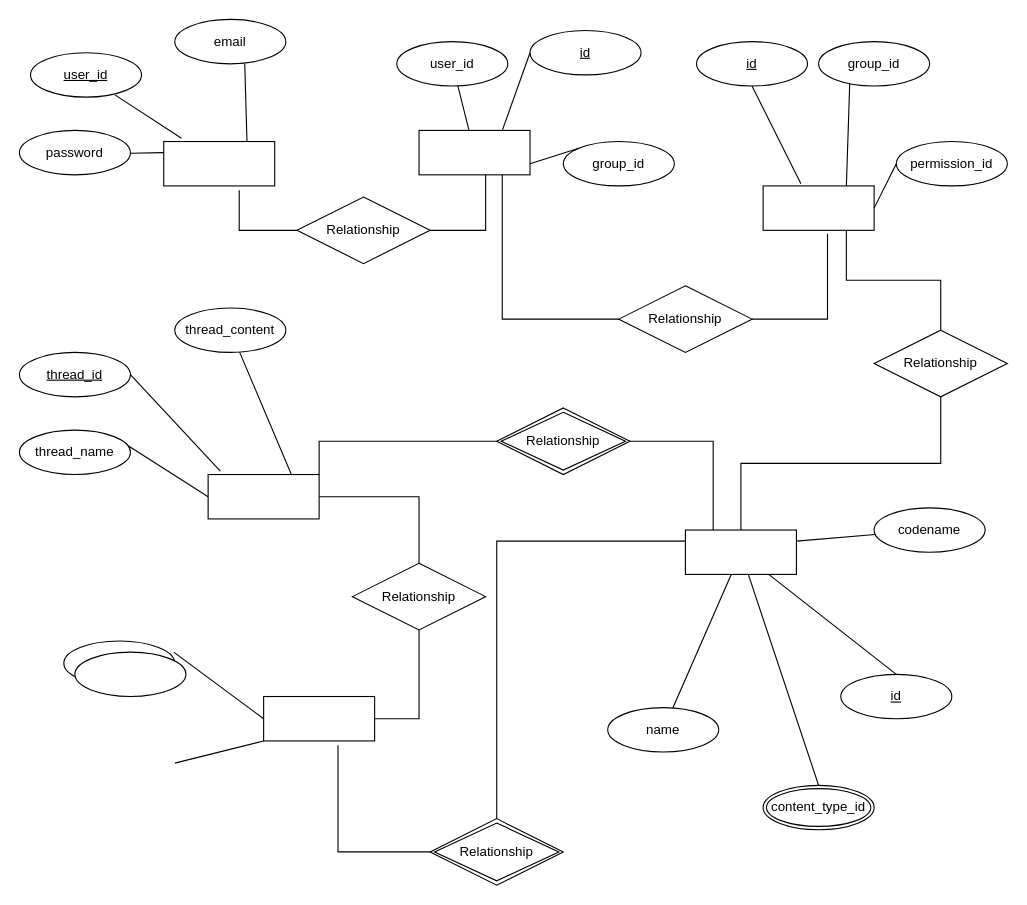
This 1027x905 diagram has some shape labels left out. Each missing label, with the centre of its shape:
Board: the point at 319,718
board_name: the point at 130,674
Permissions: the point at 740,551
Thread: the point at 263,496
User: the point at 219,163
User Groups: the point at 474,152
User Groups Permission: the point at 818,207
